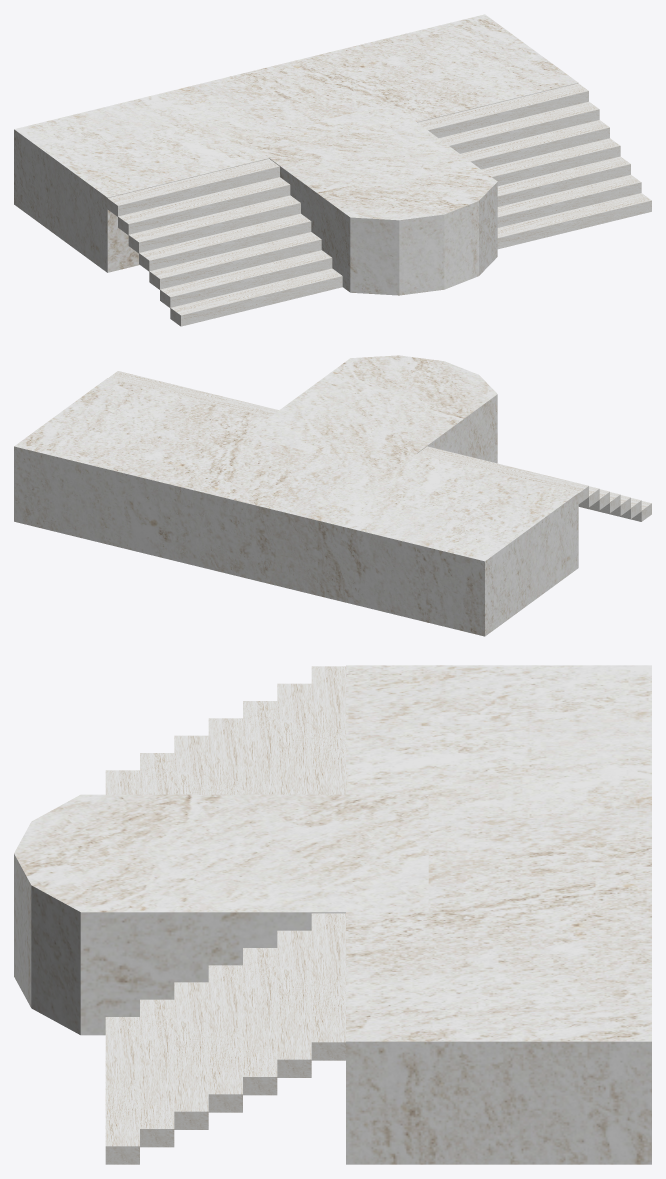
The model's file is Stand.fbx.
3 renders of one model, top to bottom at view 1: azimuth 30°, elevation 25°; view 2: azimuth 150°, elevation 25°; view 3: azimuth 270°, elevation 25°, orthographic. The views are drawn at different scales.
Visible parts, largest first — view 1: Stand, StairsToSecondFloor.001, StairsToSecondFloor.002; view 2: Stand, StairsToSecondFloor.001, StairsToSecondFloor.002; view 3: Stand, StairsToSecondFloor.002, StairsToSecondFloor.001.
Boxes of the visible parts, left/top/right/bottom form: Stand: left=14, top=14, right=578, bottom=295; StairsToSecondFloor.001: left=107, top=159, right=342, bottom=326; StairsToSecondFloor.002: left=418, top=83, right=651, bottom=249; Stand: left=14, top=355, right=578, bottom=636; StairsToSecondFloor.001: left=417, top=446, right=651, bottom=521; StairsToSecondFloor.002: left=108, top=371, right=278, bottom=417; Stand: left=14, top=665, right=651, bottom=1164; StairsToSecondFloor.002: left=105, top=913, right=345, bottom=1164; StairsToSecondFloor.001: left=105, top=666, right=345, bottom=794.
Bounding box in the file's own units: 1253 × 191 × 898.
